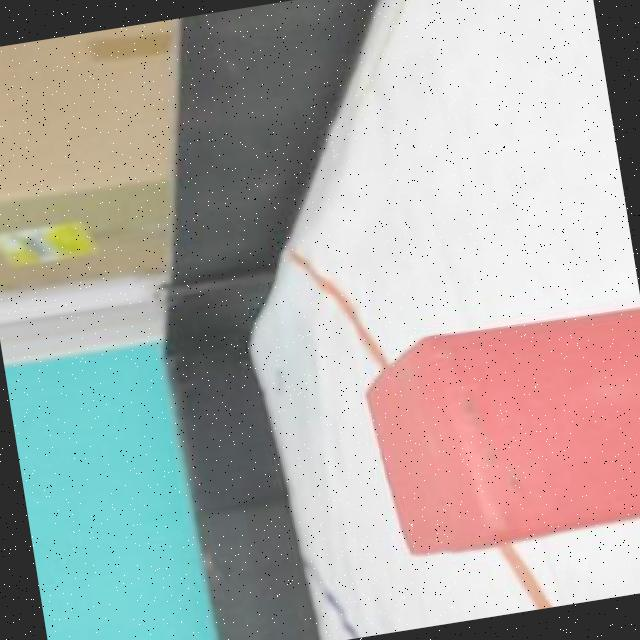redbox: (355, 299, 640, 564)
